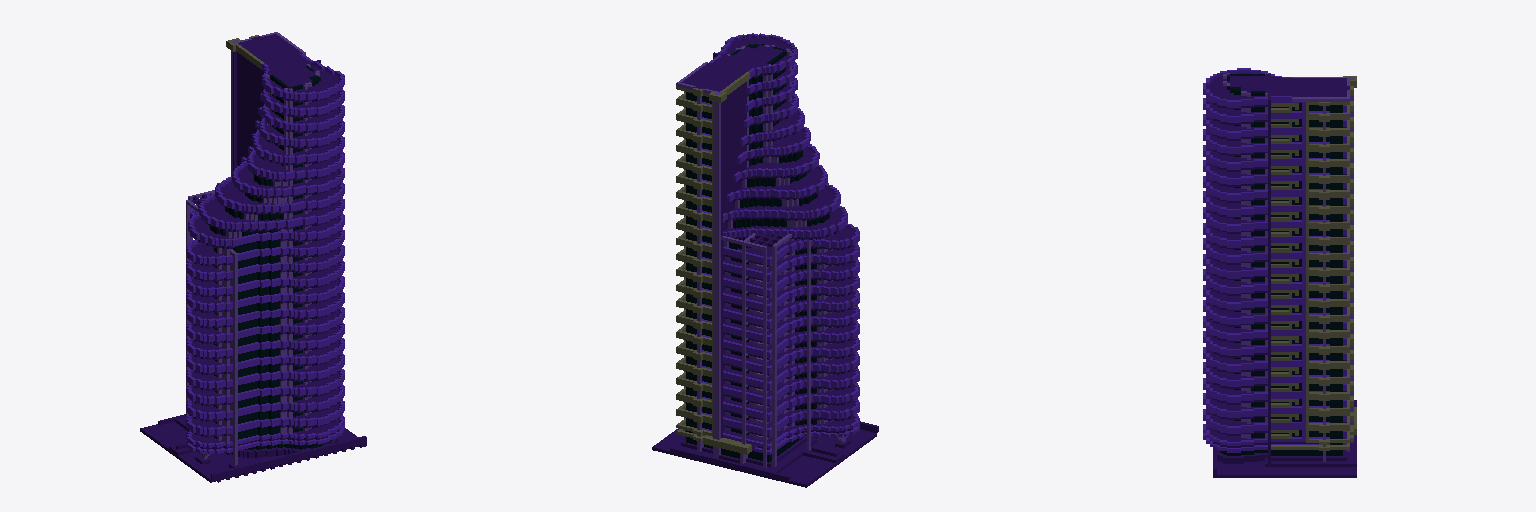
3 views of the same model, side by side, from view 1: azimuth 30°, elevation 25°; view 2: azimuth 150°, elevation 25°; view 3: azimuth 270°, elevation 25° (orthographic).
Visible parts, largest first — view 1: object 1; view 2: object 1; view 3: object 1.
Boxes of the visible parts, box(x1,y1,x2,y2) form: object 1: box(140, 32, 366, 482); object 1: box(652, 33, 878, 487); object 1: box(1203, 68, 1356, 477).
Size of the model in its own units: 5.2 by 11.9 by 4.5.
Materials: 1 (1 with a texture image).